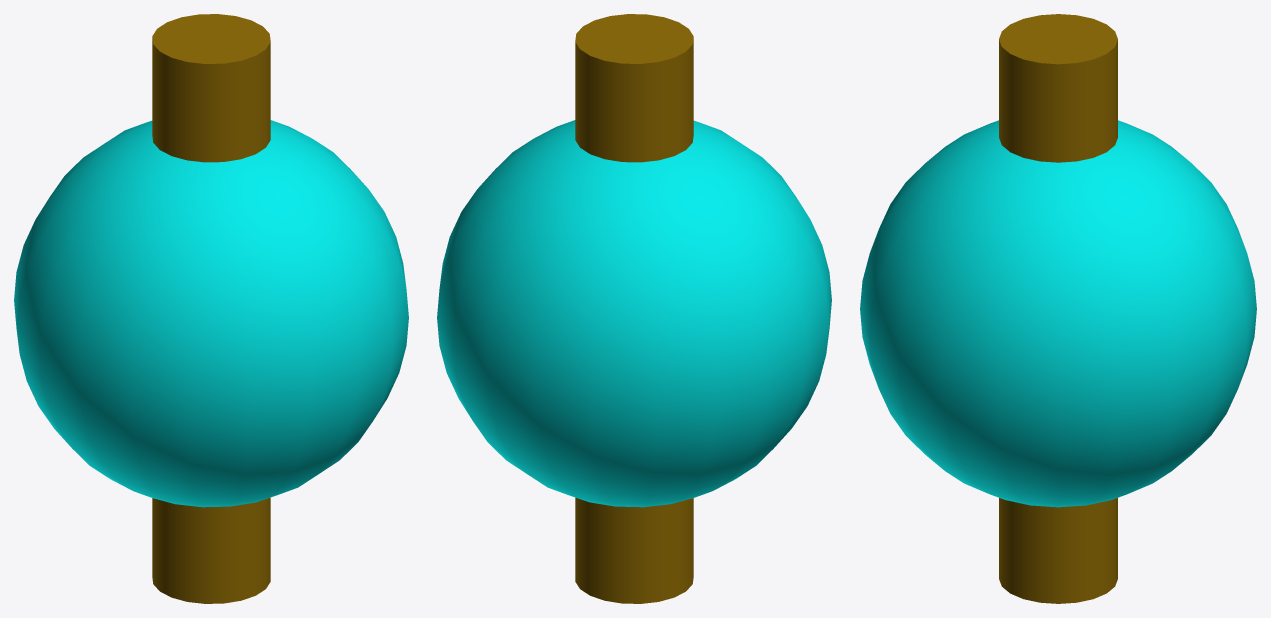
File: TestPlayer.fbx
3 renders of one model, left to right at view 1: azimuth 30°, elevation 25°; view 2: azimuth 150°, elevation 25°; view 3: azimuth 270°, elevation 25°, orthographic.
Parts seen in each view (by area): view 1: pSphere2; view 2: pSphere2; view 3: pSphere2.
Part boxes in pixels (bbox=[...]): pSphere2: bbox=[14, 14, 408, 603]; pSphere2: bbox=[437, 14, 831, 603]; pSphere2: bbox=[860, 14, 1256, 603].
Bounding box in the file's own units: 2 × 3 × 2.
